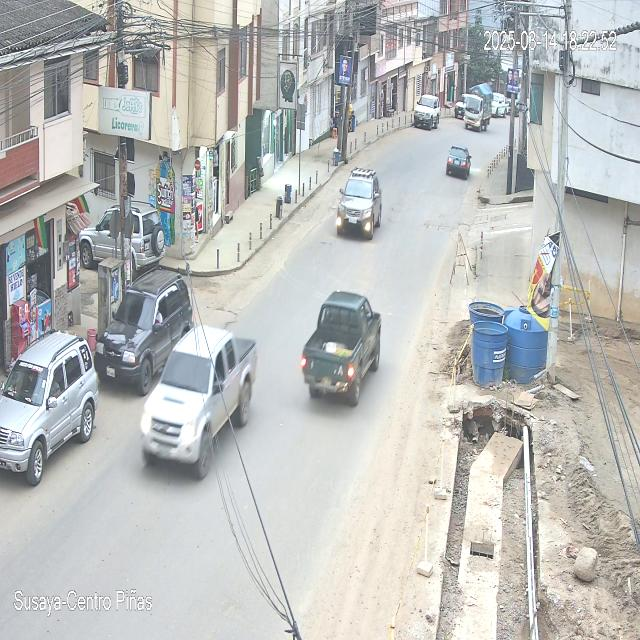CMT: (140, 324, 258, 482), (302, 292, 382, 408), (521, 23, 523, 24)
SUV: (94, 265, 194, 393), (337, 168, 382, 240)
TRUCK: (461, 82, 493, 132)
